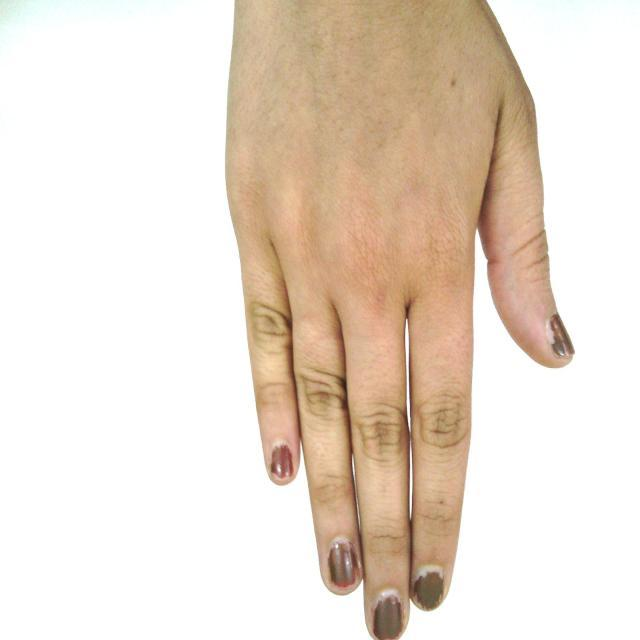Fingernail: (328, 537, 359, 587), (373, 588, 403, 639), (414, 565, 444, 611), (546, 314, 576, 357), (270, 440, 294, 481)
